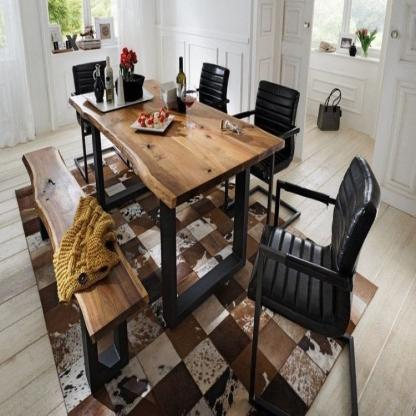Dining Table: (18, 40, 390, 416)
